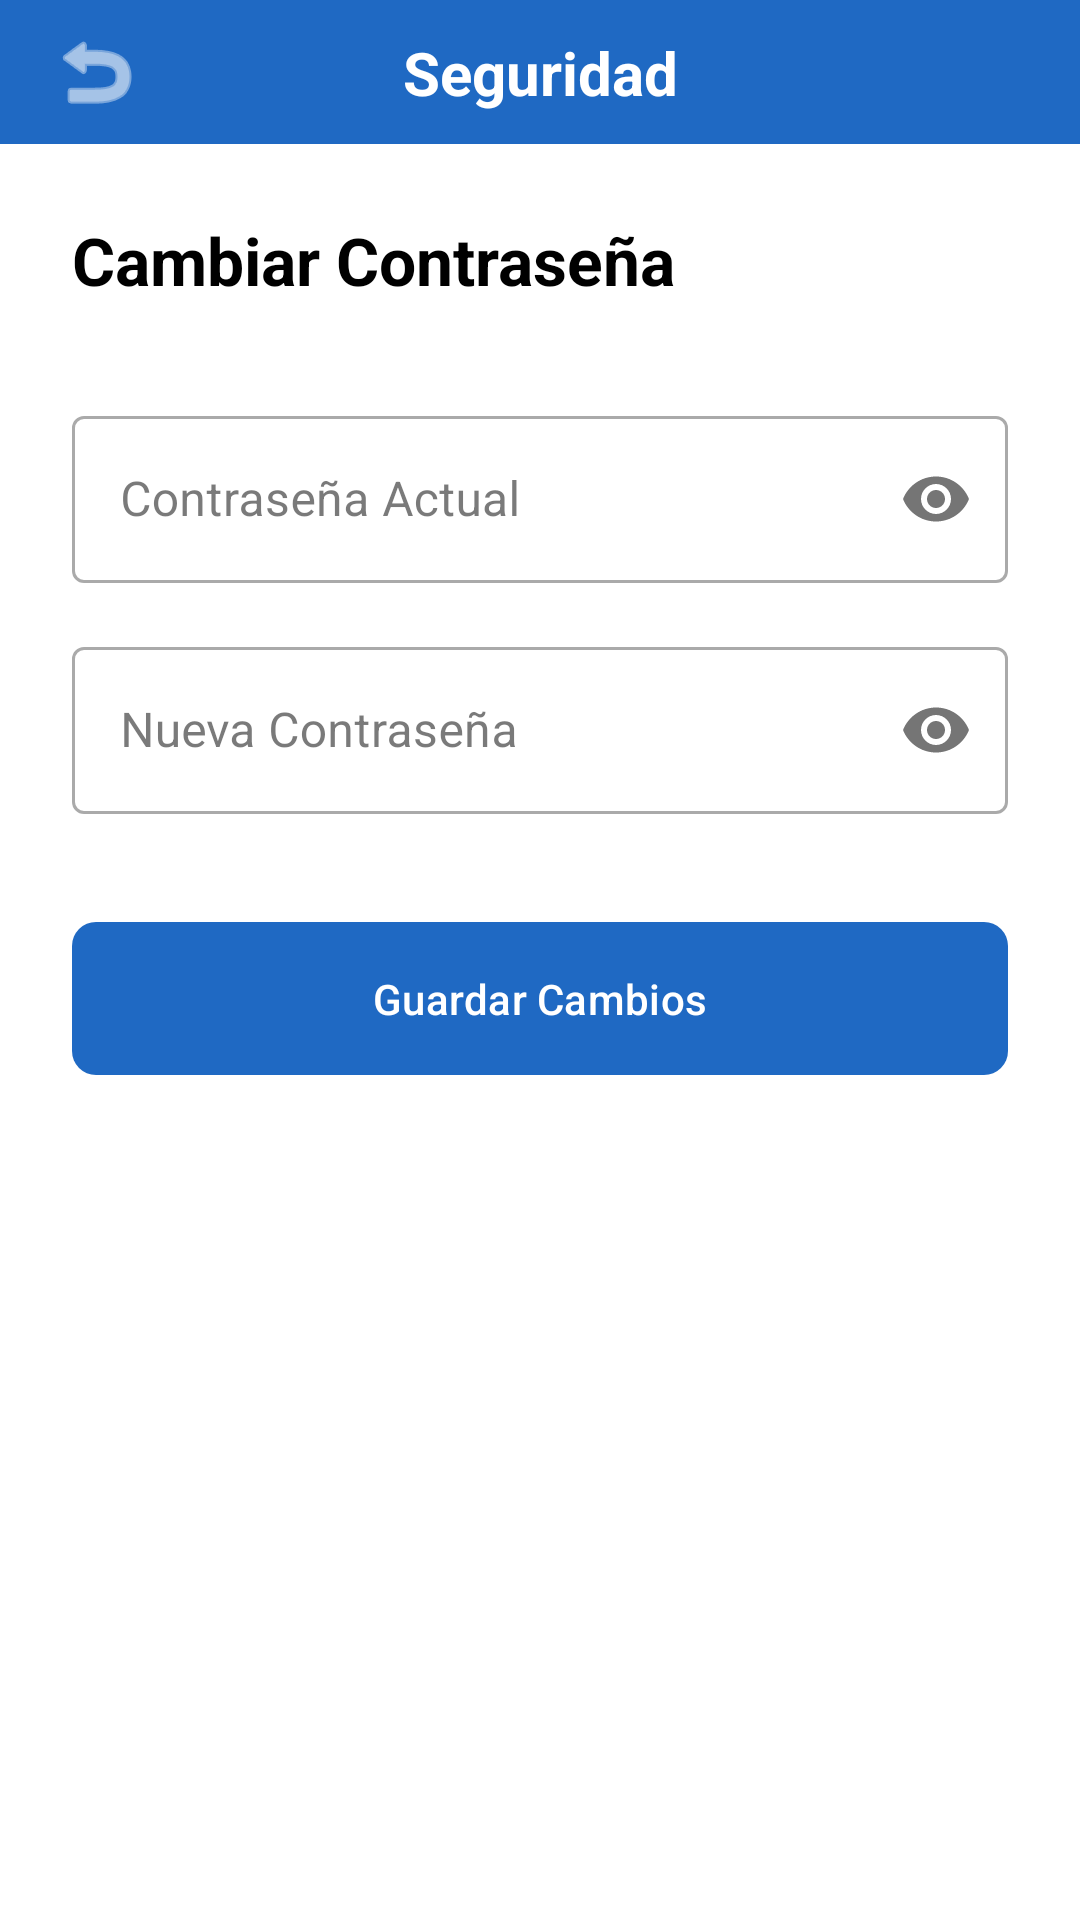

Where icons sit on this 1080 x 1920 app screen, as rect(x1, y1, x2, y2):
Atrás: rect(63, 41, 132, 104)
